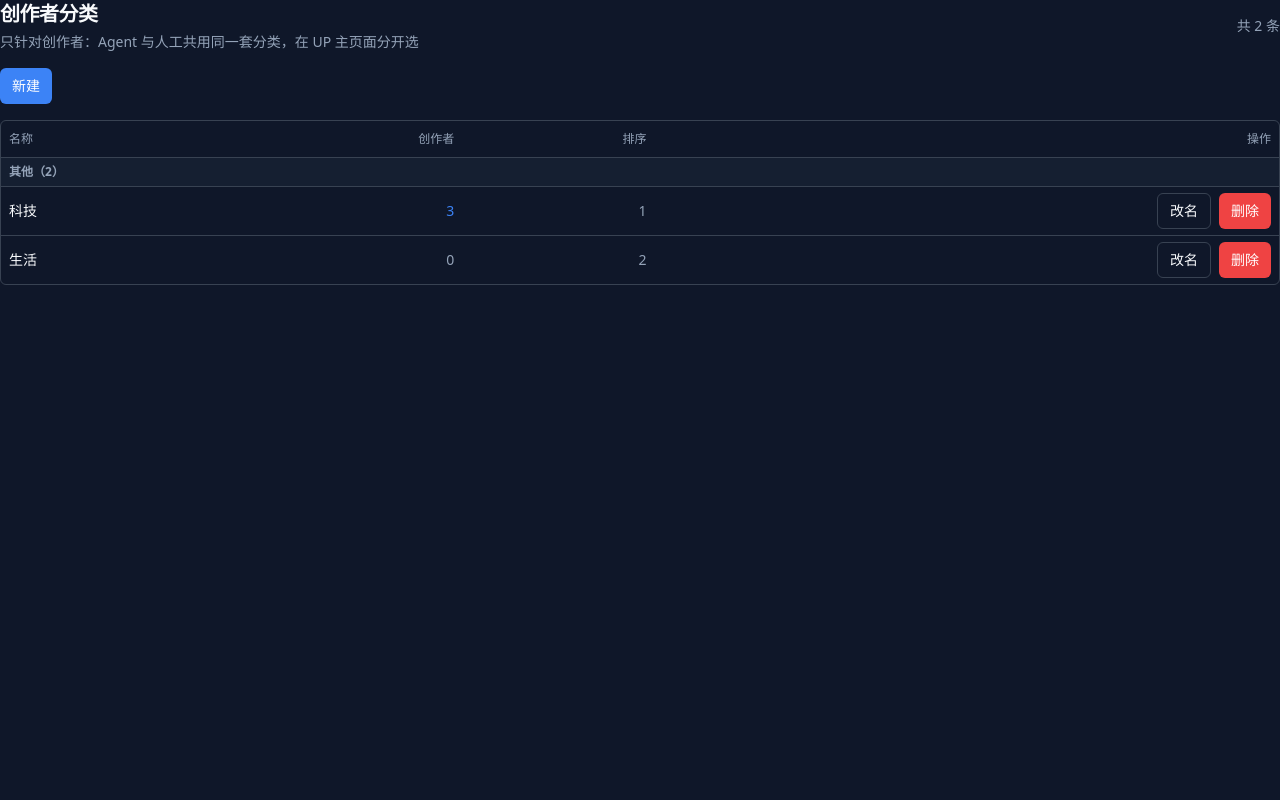
新建：空名保存禁用；失败 toast 带错误文案
The width and height of the screenshot is (1280, 800).
Expected: the text "科技" is shown, [1,186,212,235]
Click the button "新建". click: (26, 86)
box: [0,68,52,104]
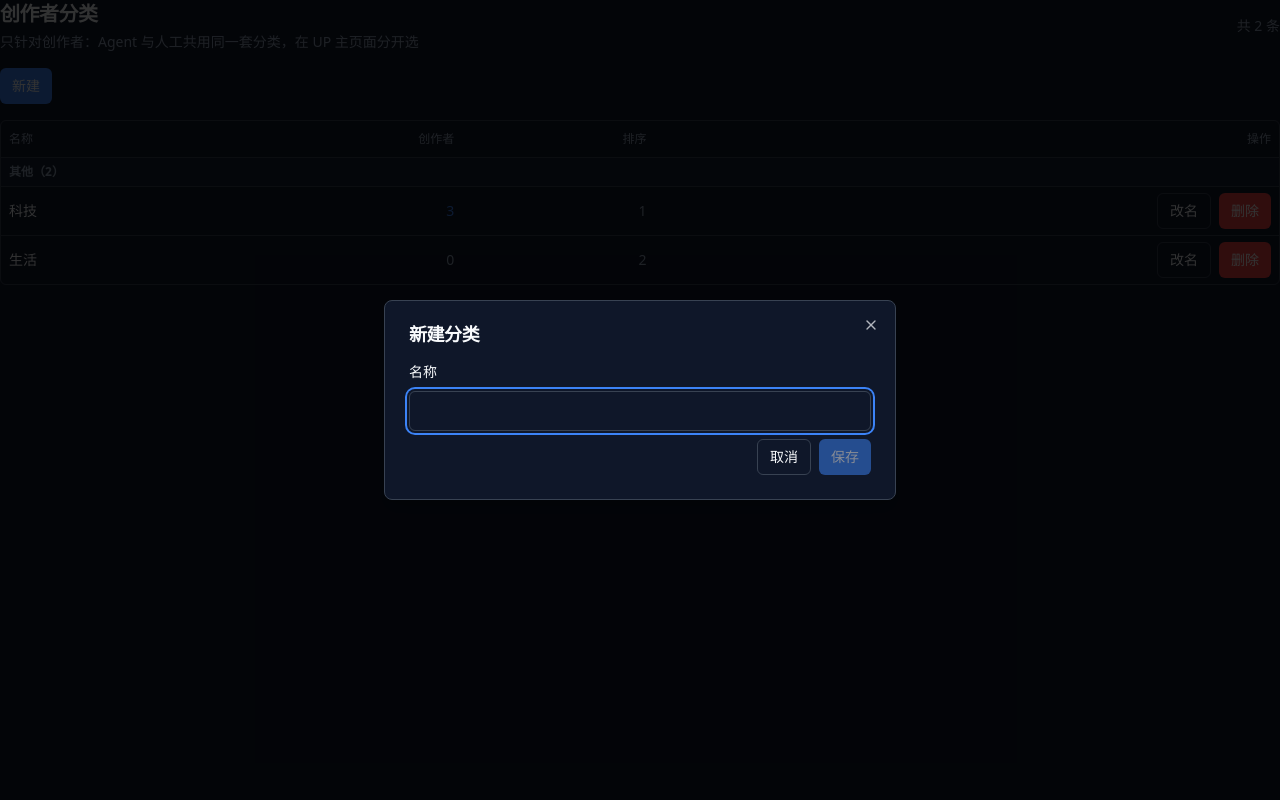
Expected: the field labelled "名称" is shown
Expected: the button "保存" is disabled, [819,439,871,475]
Type "x" into the field labelled "名称". click: (640, 411)
box: [409,391,871,431]
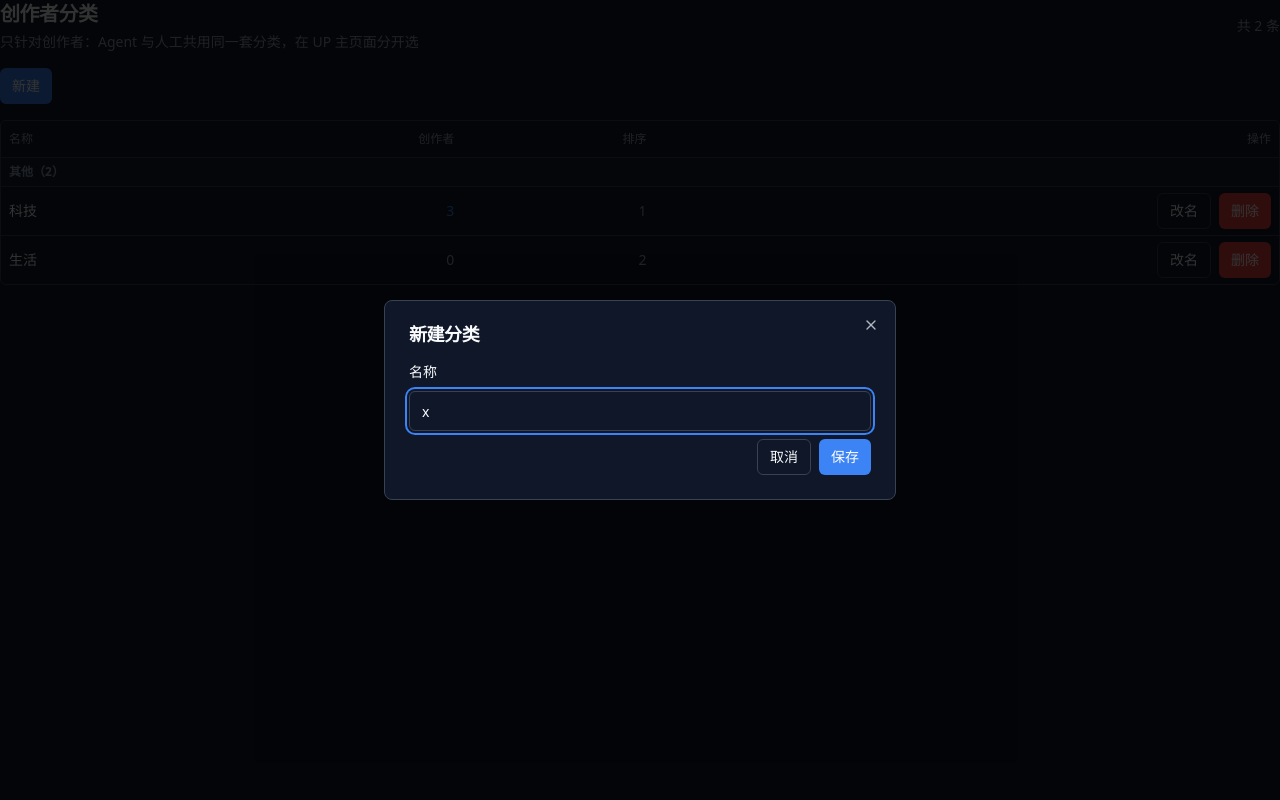
Click the button "保存". click: (845, 457)
box: [819,439,871,475]
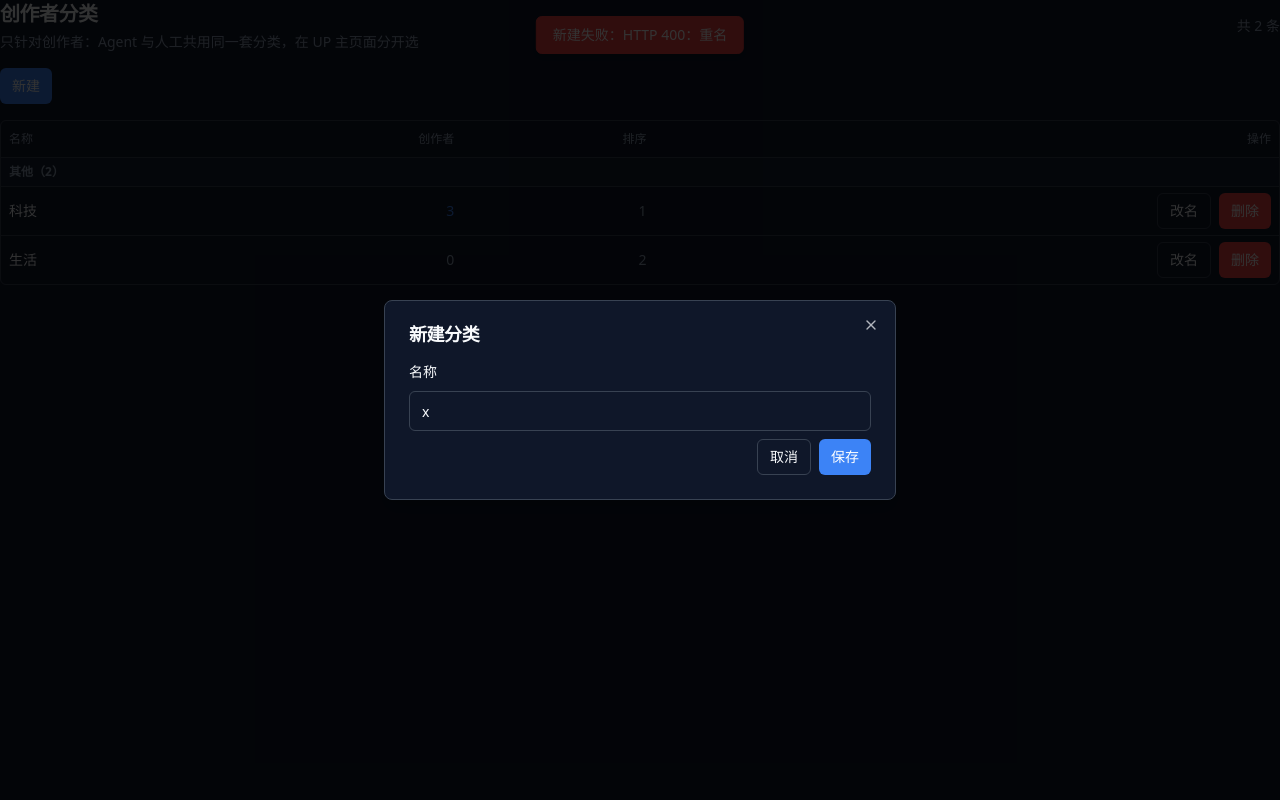
Expected: the text "新建失败：HTTP 400：重名" is shown, [536,16,744,54]
